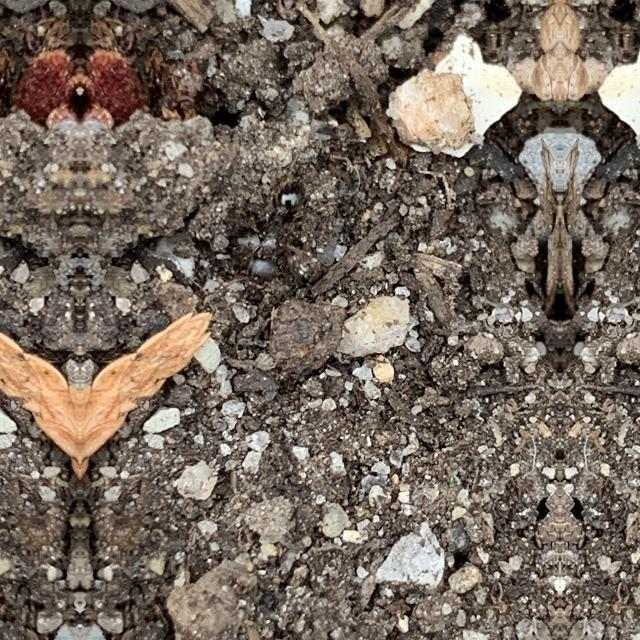Tetramorium: (238, 176, 312, 292)
